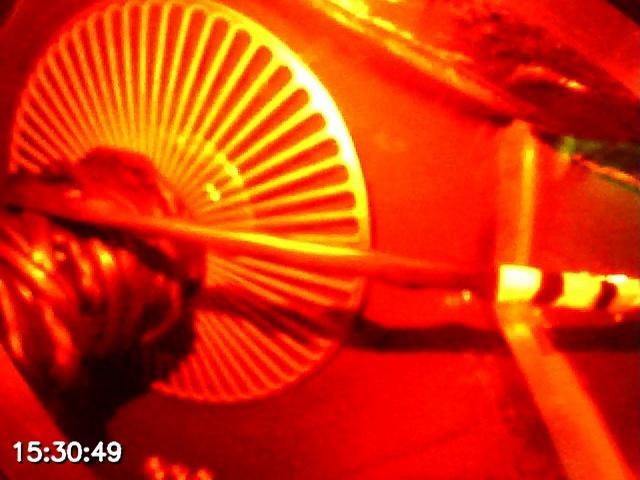white-dots: (496, 263, 640, 314)
